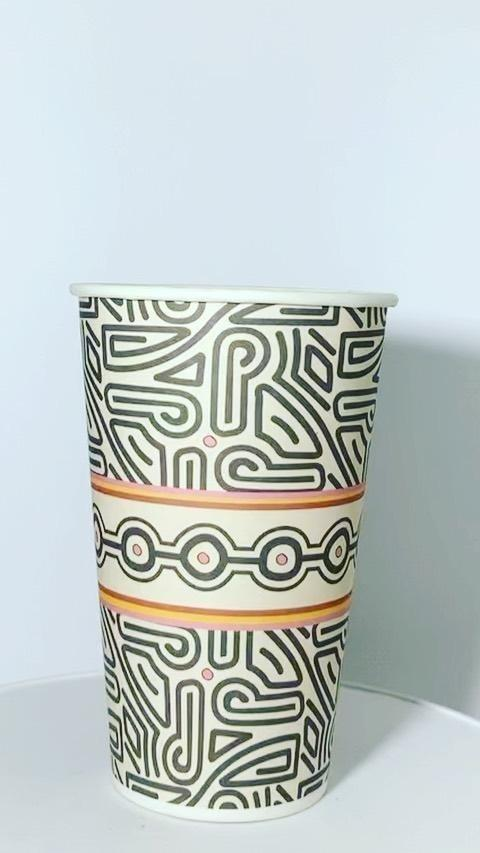cup-disposable: (63, 266, 397, 825)
